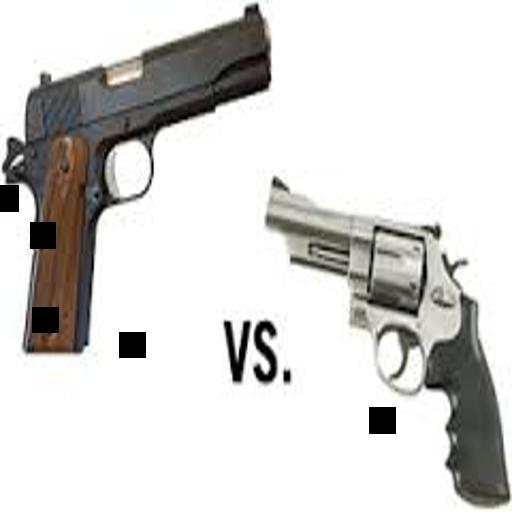Handgun: (5, 2, 272, 352), (261, 164, 506, 511)
